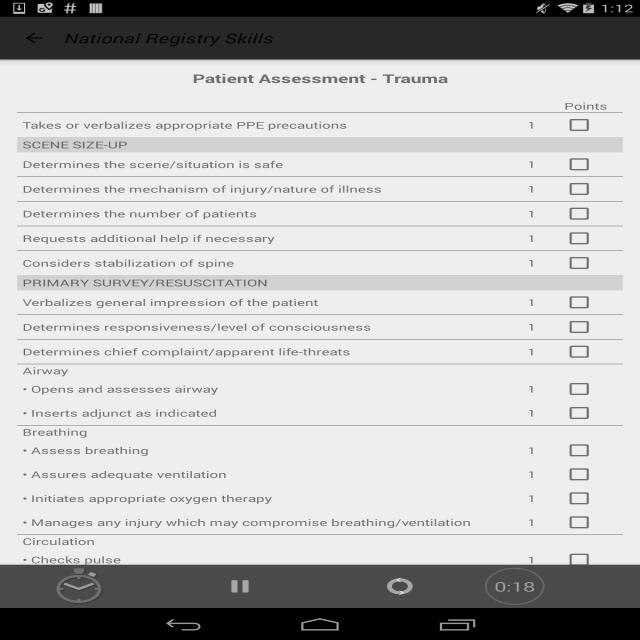CheckBox: (562, 114, 623, 136), (562, 178, 623, 200), (562, 252, 623, 274), (562, 316, 623, 338), (562, 378, 623, 400), (562, 402, 623, 424), (562, 154, 623, 175), (562, 203, 623, 224), (562, 228, 623, 249), (562, 292, 623, 313), (562, 341, 623, 362), (562, 440, 623, 461), (562, 464, 623, 485), (562, 488, 623, 509), (562, 512, 623, 533), (562, 549, 623, 570)
ImageButton: (0, 19, 60, 57)
ImageView: (0, 565, 160, 608), (160, 576, 320, 596), (320, 576, 480, 596)
ProgressBar: (480, 565, 549, 608), (0, 561, 640, 565)
TextView: (17, 86, 623, 112), (17, 70, 623, 86), (17, 137, 623, 152), (17, 275, 623, 290), (17, 364, 623, 377), (17, 535, 623, 548), (17, 426, 623, 438), (17, 158, 501, 171), (17, 207, 501, 220), (17, 232, 501, 245), (17, 296, 501, 309), (17, 345, 501, 358), (17, 444, 501, 457), (17, 468, 501, 481), (17, 492, 501, 505), (17, 516, 501, 529), (17, 553, 501, 566), (17, 119, 501, 131), (17, 183, 501, 195), (17, 257, 501, 269), (17, 321, 501, 333), (17, 383, 501, 395), (17, 407, 501, 419), (64, 29, 274, 47), (480, 565, 549, 608), (501, 158, 562, 171), (501, 207, 562, 220), (501, 232, 562, 245), (501, 296, 562, 309), (501, 345, 562, 358), (501, 444, 562, 457), (501, 468, 562, 481), (501, 492, 562, 505), (501, 516, 562, 529), (501, 553, 562, 566), (501, 119, 562, 131), (501, 183, 562, 195), (501, 257, 562, 269), (501, 321, 562, 333), (501, 383, 562, 395), (501, 407, 562, 419)
